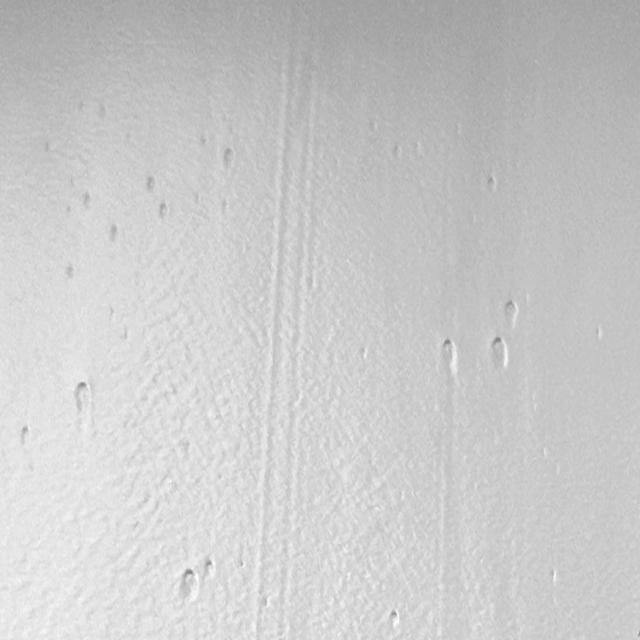pin holes: (436, 337, 462, 377), (69, 379, 93, 416), (486, 338, 509, 372), (176, 567, 199, 601), (500, 298, 520, 329), (218, 145, 236, 171), (16, 425, 34, 449), (386, 610, 404, 634), (78, 191, 96, 214), (483, 174, 500, 195), (63, 263, 79, 283), (143, 176, 159, 196), (357, 344, 373, 364), (109, 224, 123, 245), (392, 142, 406, 163), (203, 558, 216, 580), (157, 201, 170, 221), (593, 324, 604, 346), (548, 569, 560, 585), (222, 196, 228, 220)
